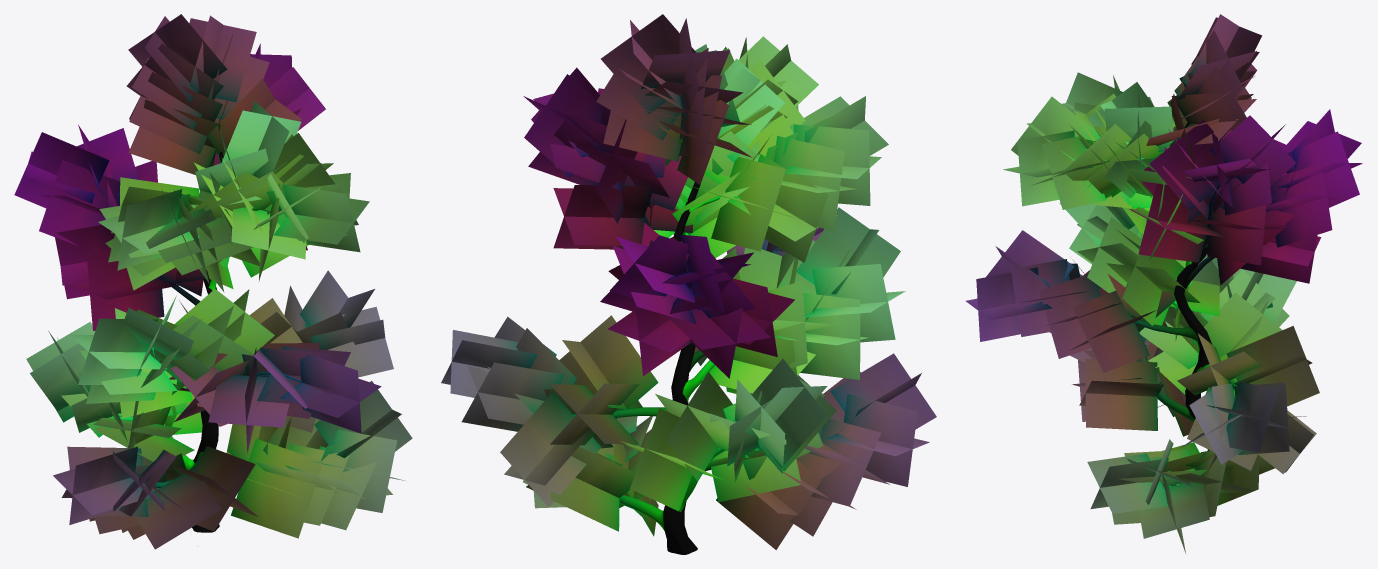
File: URP_P11_Tree_5_LOD_0.fbx
3 renders of one model, left to right at view 1: azimuth 30°, elevation 25°; view 2: azimuth 150°, elevation 25°; view 3: azimuth 270°, elevation 25°, orthographic. The views are drawn at different scales.
Parts seen in each view (by area): view 1: Tree_5_LOD_0; view 2: Tree_5_LOD_0; view 3: Tree_5_LOD_0.
Boxes of the visible parts, x1,y1,x2,y2 form: Tree_5_LOD_0: (14, 14, 412, 549); Tree_5_LOD_0: (441, 14, 936, 554); Tree_5_LOD_0: (966, 14, 1362, 553).
Size of the model in its own units: 596 by 787 by 606.
